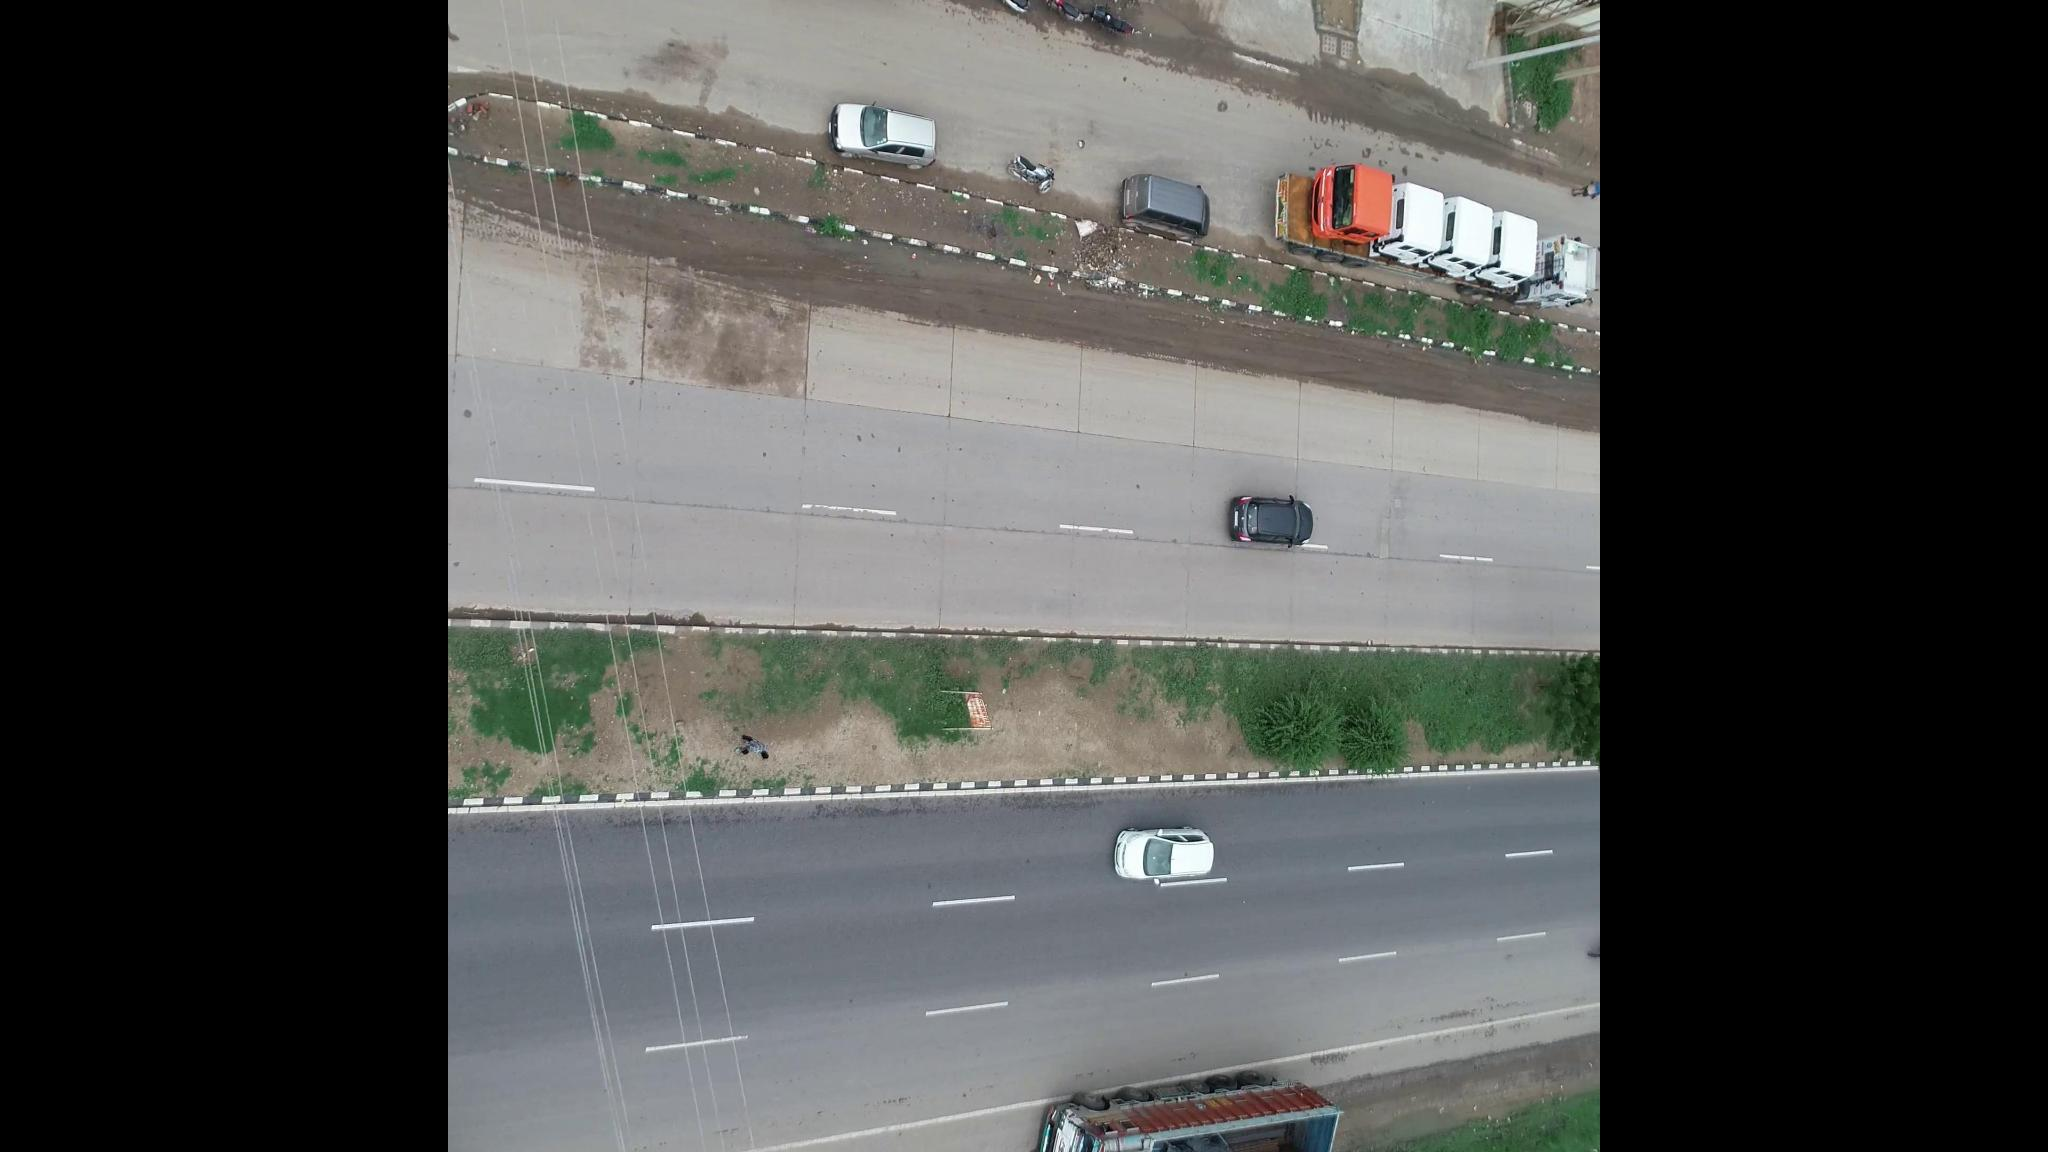Muddy_road: (639, 196, 944, 309), (1184, 295, 1405, 390), (956, 262, 1169, 352), (1414, 342, 1589, 433)
Ravelling: (814, 792, 1101, 826)
